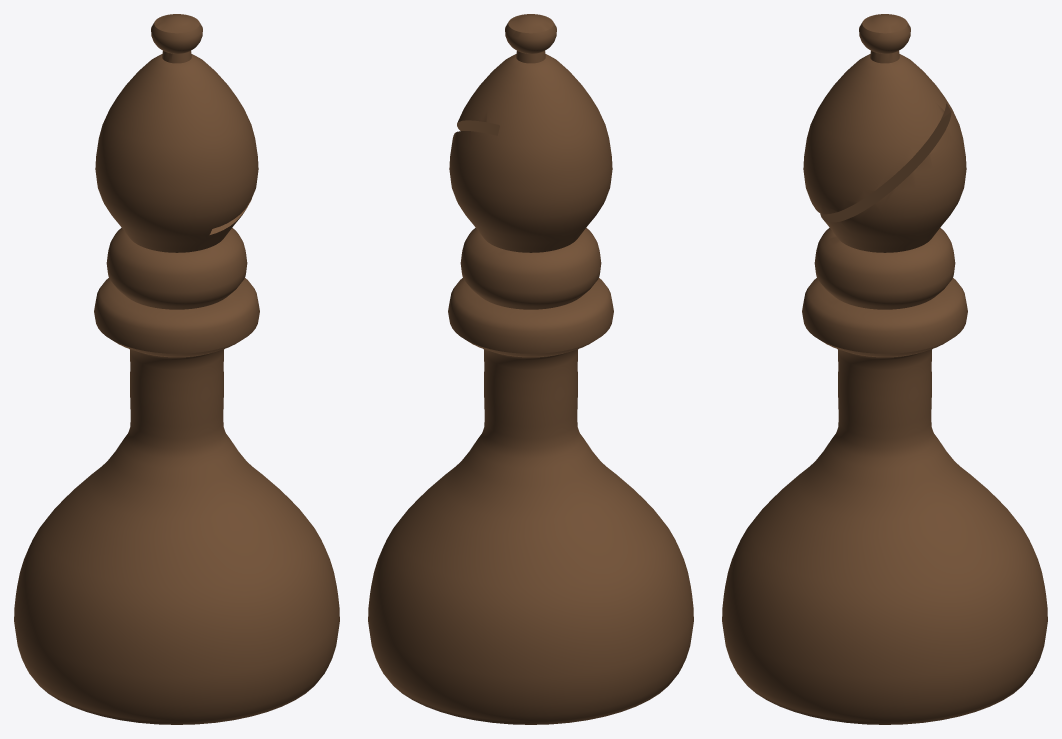
File: black-bishop.glb
3 views of the same model, side by side, from view 1: azimuth 30°, elevation 25°; view 2: azimuth 150°, elevation 25°; view 3: azimuth 270°, elevation 25° (orthographic).
Visible parts, largest first — view 1: black-bishop.001; view 2: black-bishop.001; view 3: black-bishop.001.
Part boxes in pixels (x1,y1,x2,y2): black-bishop.001: (14, 14, 339, 724); black-bishop.001: (368, 14, 693, 724); black-bishop.001: (722, 14, 1047, 724).
Bounding box in the file's own units: 0.6592 × 1.44 × 0.6592.
